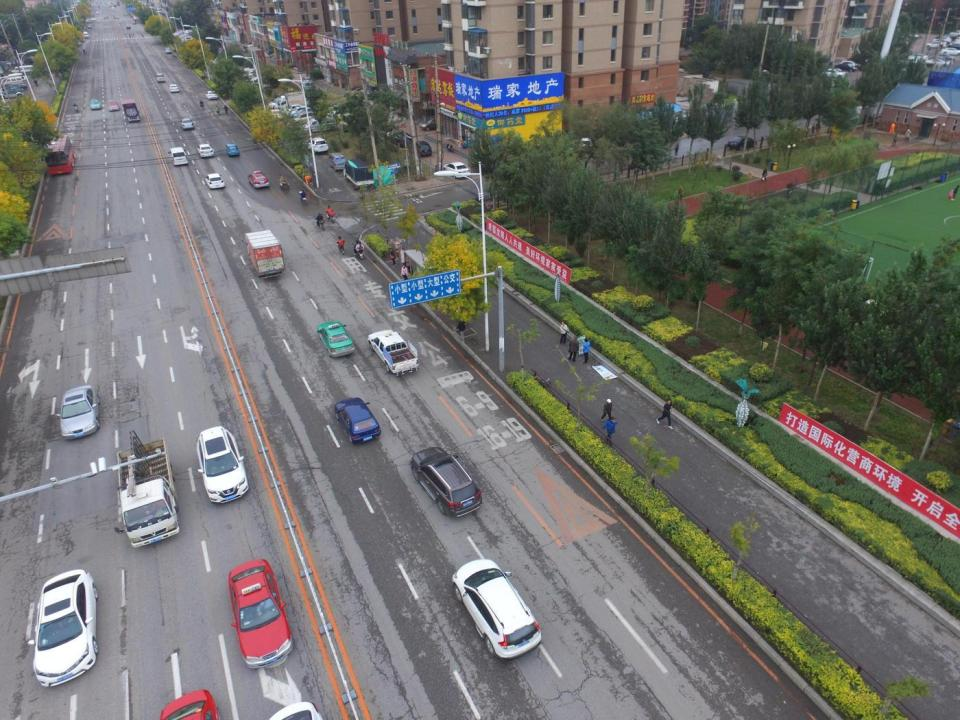bus: (44, 136, 75, 176)
car: (452, 557, 542, 662), (35, 571, 100, 687), (229, 558, 295, 671), (412, 449, 484, 519), (196, 426, 250, 506), (58, 387, 104, 438), (335, 398, 380, 448), (317, 321, 354, 357), (249, 170, 270, 190), (444, 163, 468, 180), (390, 131, 412, 148), (205, 173, 227, 188), (727, 137, 756, 148), (307, 138, 329, 152), (413, 141, 431, 158), (826, 66, 846, 80), (4, 82, 27, 93), (927, 57, 949, 68), (270, 97, 285, 113), (908, 52, 926, 65), (334, 108, 357, 118), (269, 110, 285, 124), (852, 55, 872, 66), (291, 108, 310, 118), (198, 145, 215, 156), (286, 105, 306, 114), (226, 144, 238, 158), (301, 82, 315, 93), (841, 60, 862, 67), (107, 100, 121, 110), (181, 120, 195, 130), (89, 98, 100, 110), (941, 47, 959, 54), (928, 41, 948, 47), (205, 91, 218, 99), (301, 77, 313, 85), (169, 86, 179, 93), (165, 47, 172, 54)
truck: (115, 432, 178, 547), (367, 328, 417, 376), (241, 229, 286, 279)
van: (341, 160, 376, 188), (279, 92, 317, 113), (304, 115, 338, 132), (122, 102, 142, 126), (169, 146, 189, 165), (291, 112, 317, 126), (418, 116, 440, 132), (580, 136, 598, 154), (326, 154, 346, 170), (378, 124, 394, 138), (10, 66, 37, 74), (1, 90, 26, 98), (5, 75, 27, 81), (155, 73, 166, 84), (82, 31, 89, 38)
